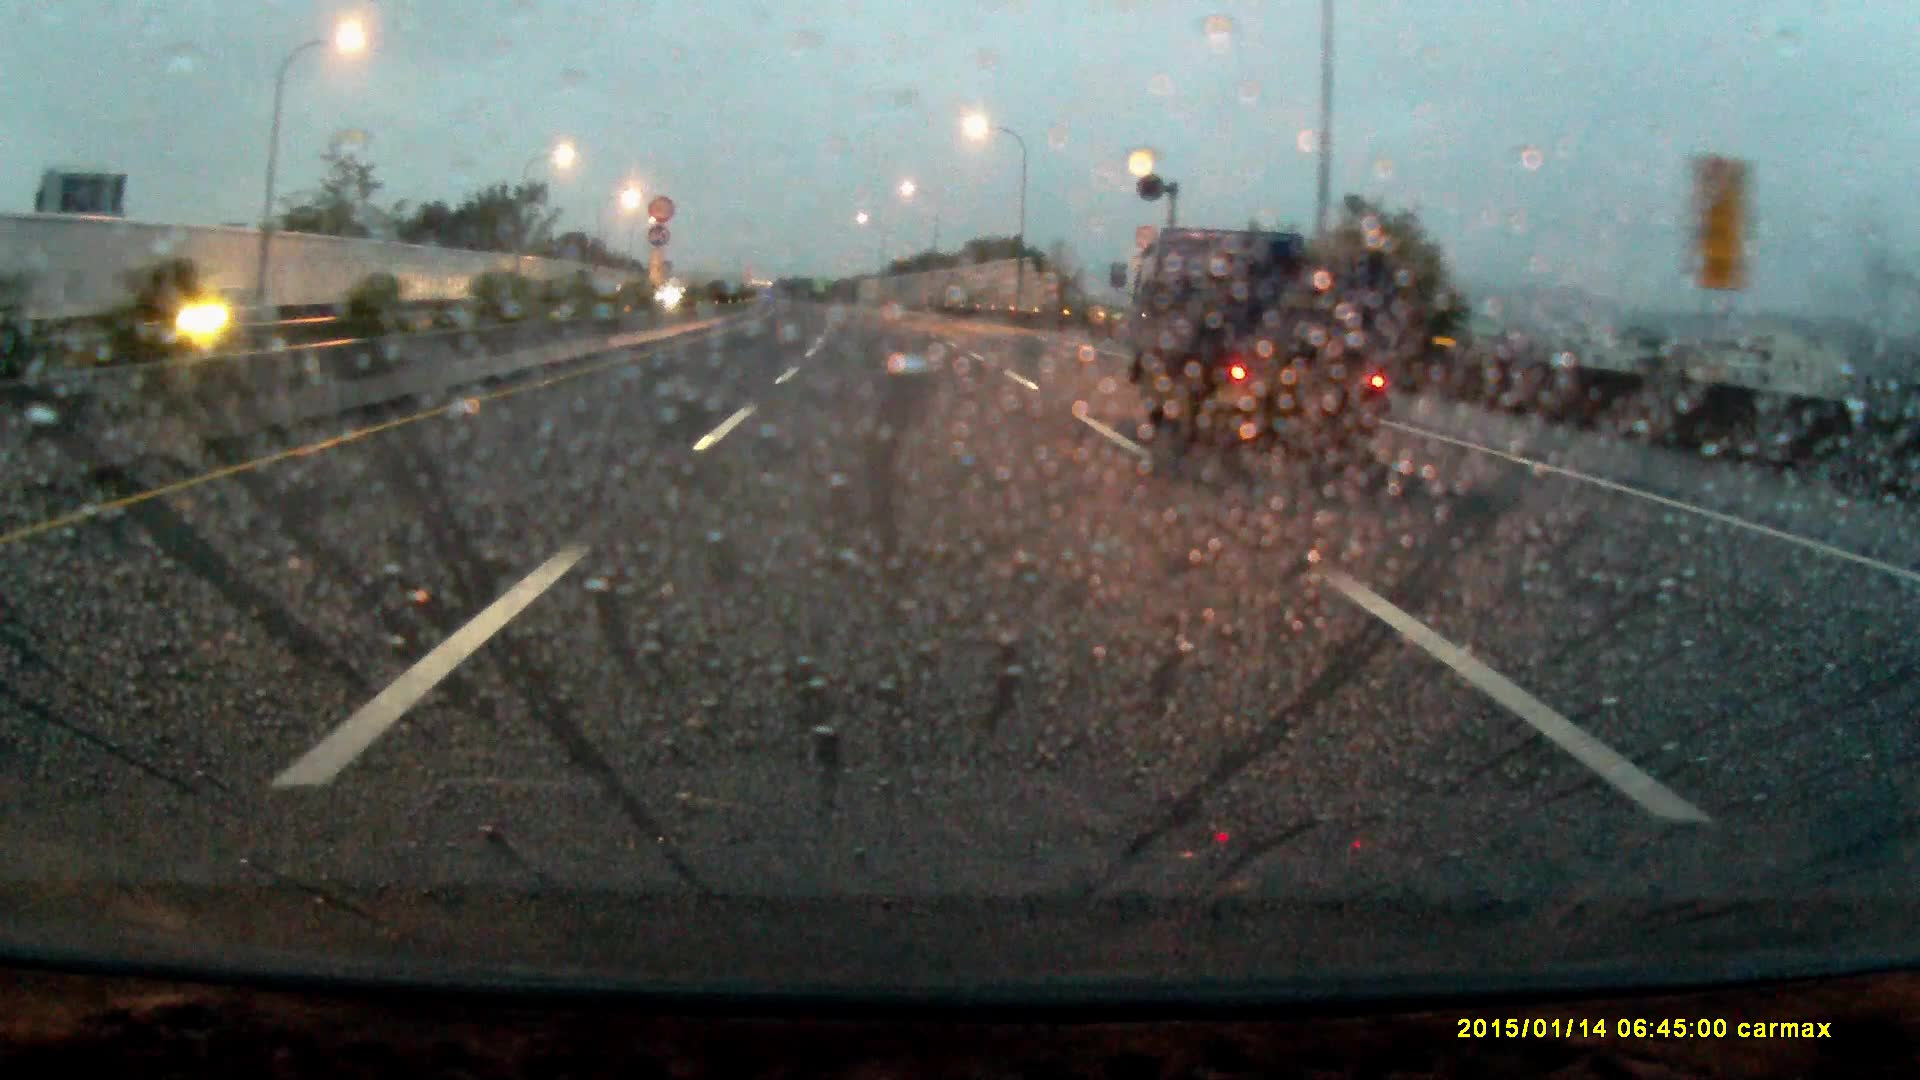vehicle: (1147, 222, 1411, 488), (152, 286, 269, 349)
